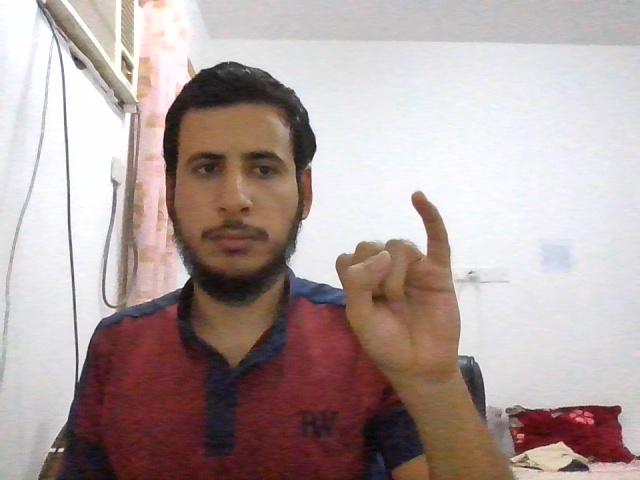One: (336, 191, 460, 374)
